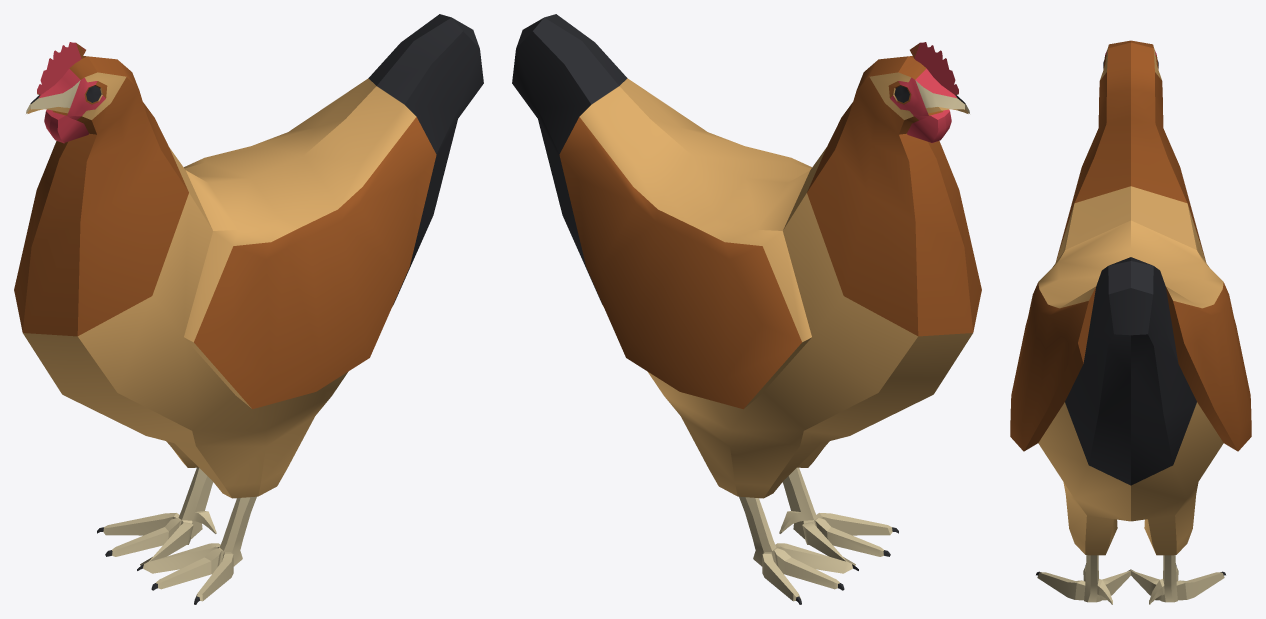
Rendered from chicken_1.fbx.
The picture shows the model from 3 angles, left to right: view 1: azimuth 30°, elevation 25°; view 2: azimuth 150°, elevation 25°; view 3: azimuth 270°, elevation 25°; orthographic projection. The views are drawn at different scales.
Visible parts, largest first — view 1: Cube; view 2: Cube; view 3: Cube.
Boxes of the visible parts, <box> form: Cube: <box>14,14,483,604</box>; Cube: <box>512,14,981,604</box>; Cube: <box>1010,40,1251,604</box>.
Size of the model in its own units: 9.39 by 10.78 by 4.51.
